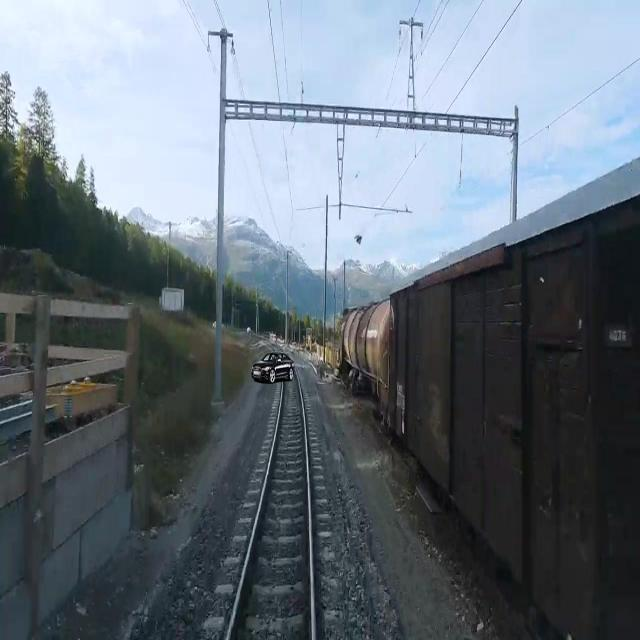danger: (248, 344, 303, 386)
rail: (181, 337, 357, 640)
